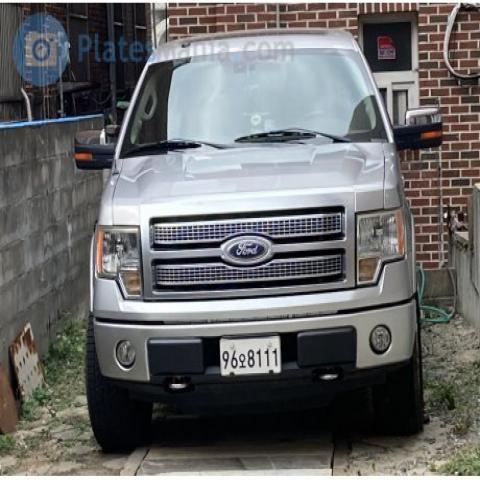LP: (214, 335, 288, 388)
